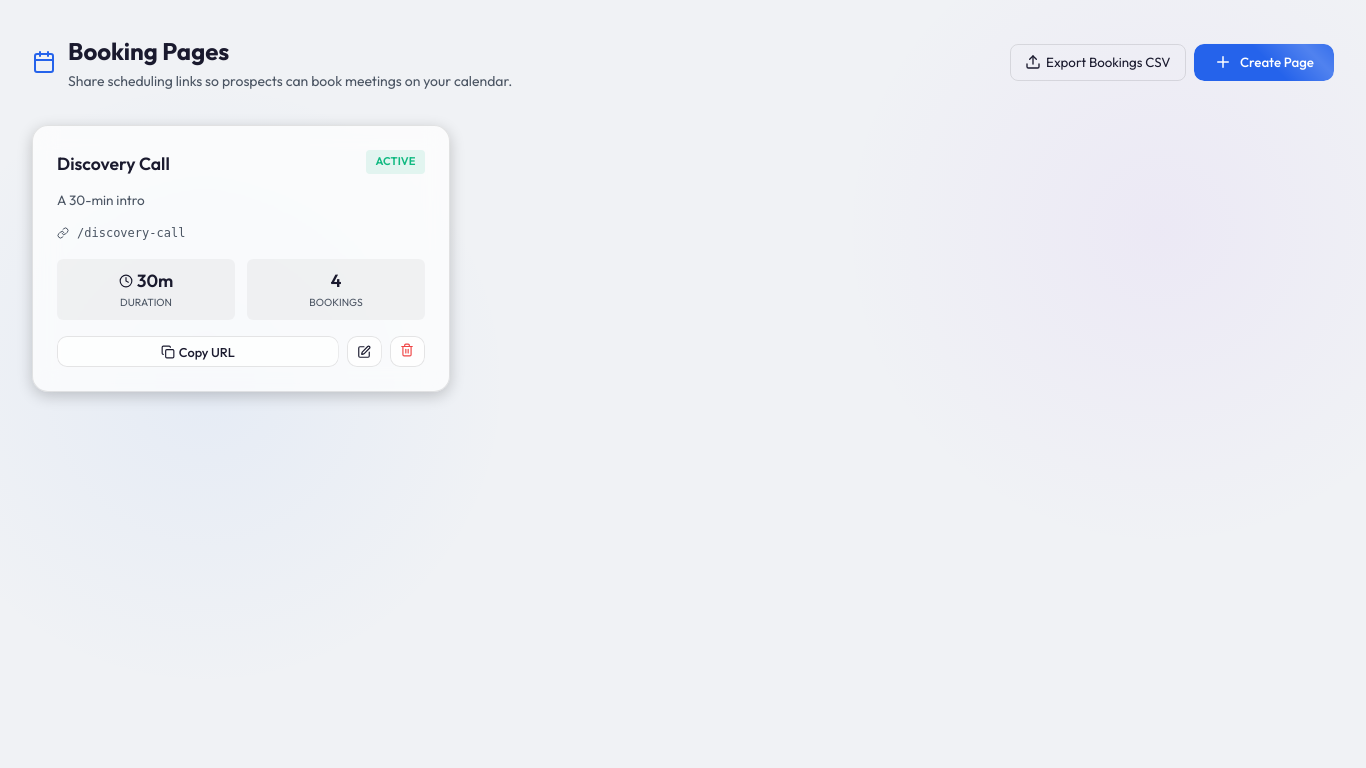
Test: <BookingPages /> — edit drawer (pre-fill + save + publish toggle) › pre-fills the edit drawer with the selected page fields
What coordinates should you click on to do the following:
click the heading "Discovery Call"
I would click on:
 (113, 163)
Its box is [57,152,170,175].
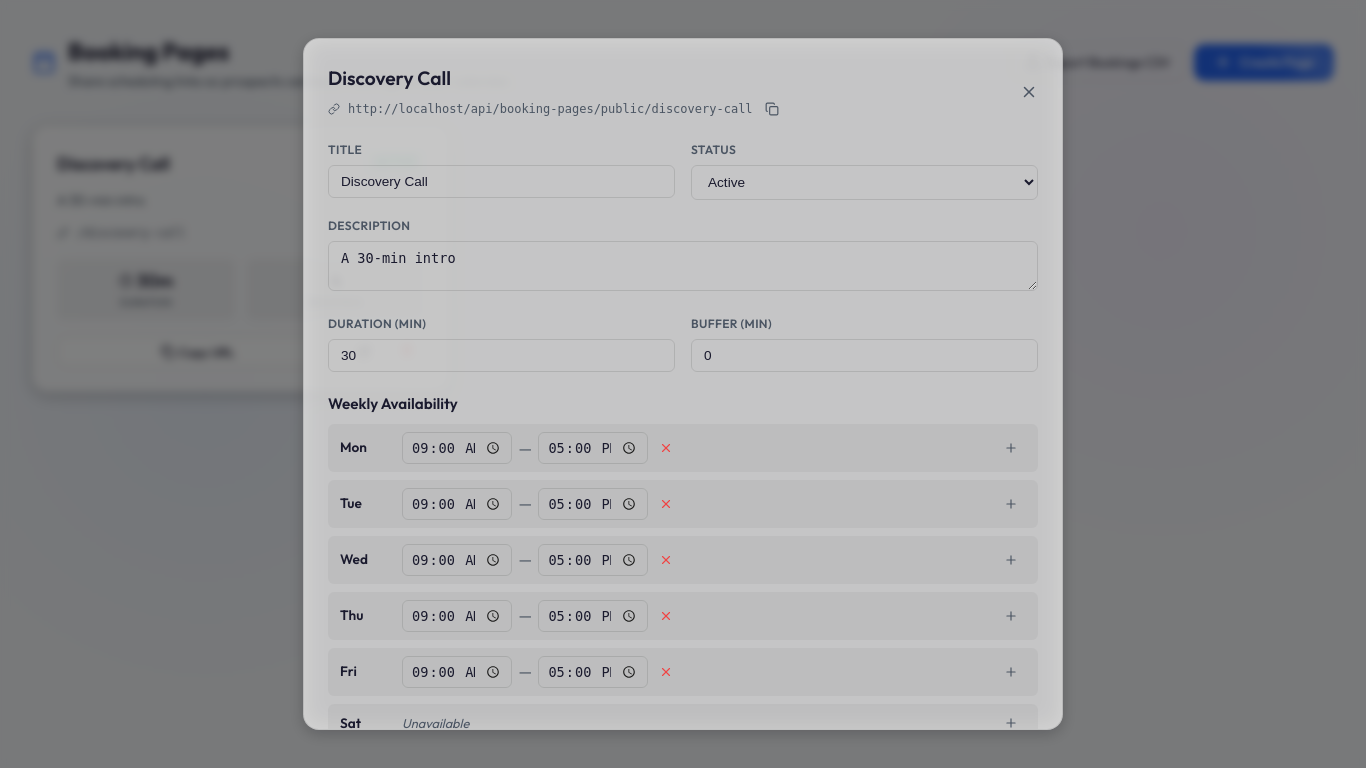
Result: the field showing "Discovery Call" is shown at [328,165,675,198]
Result: the text box showing "A 30-min intro" is shown at [328,241,1038,291]
Result: the dropdown showing "Active" is shown at [691,165,1038,200]
